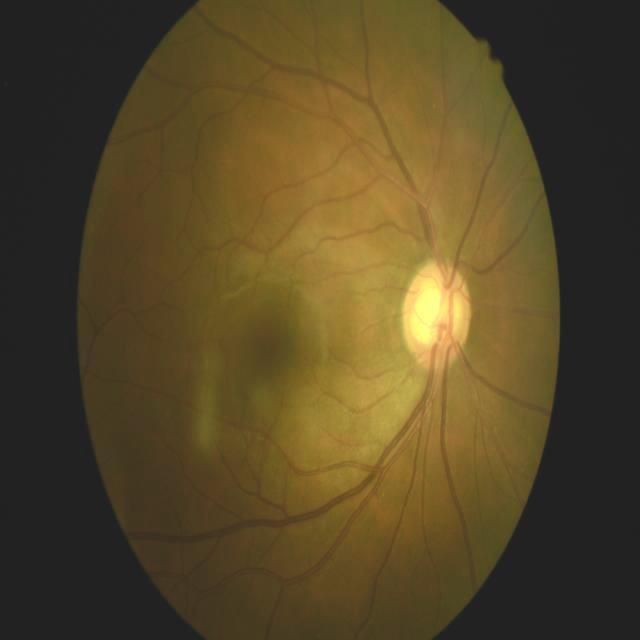cup: (412, 278, 457, 346)
disk: (403, 262, 473, 369)
